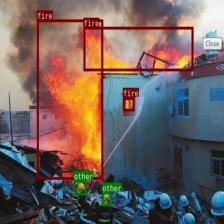fire: (36, 19, 102, 179), (83, 27, 193, 70), (122, 96, 134, 111)
